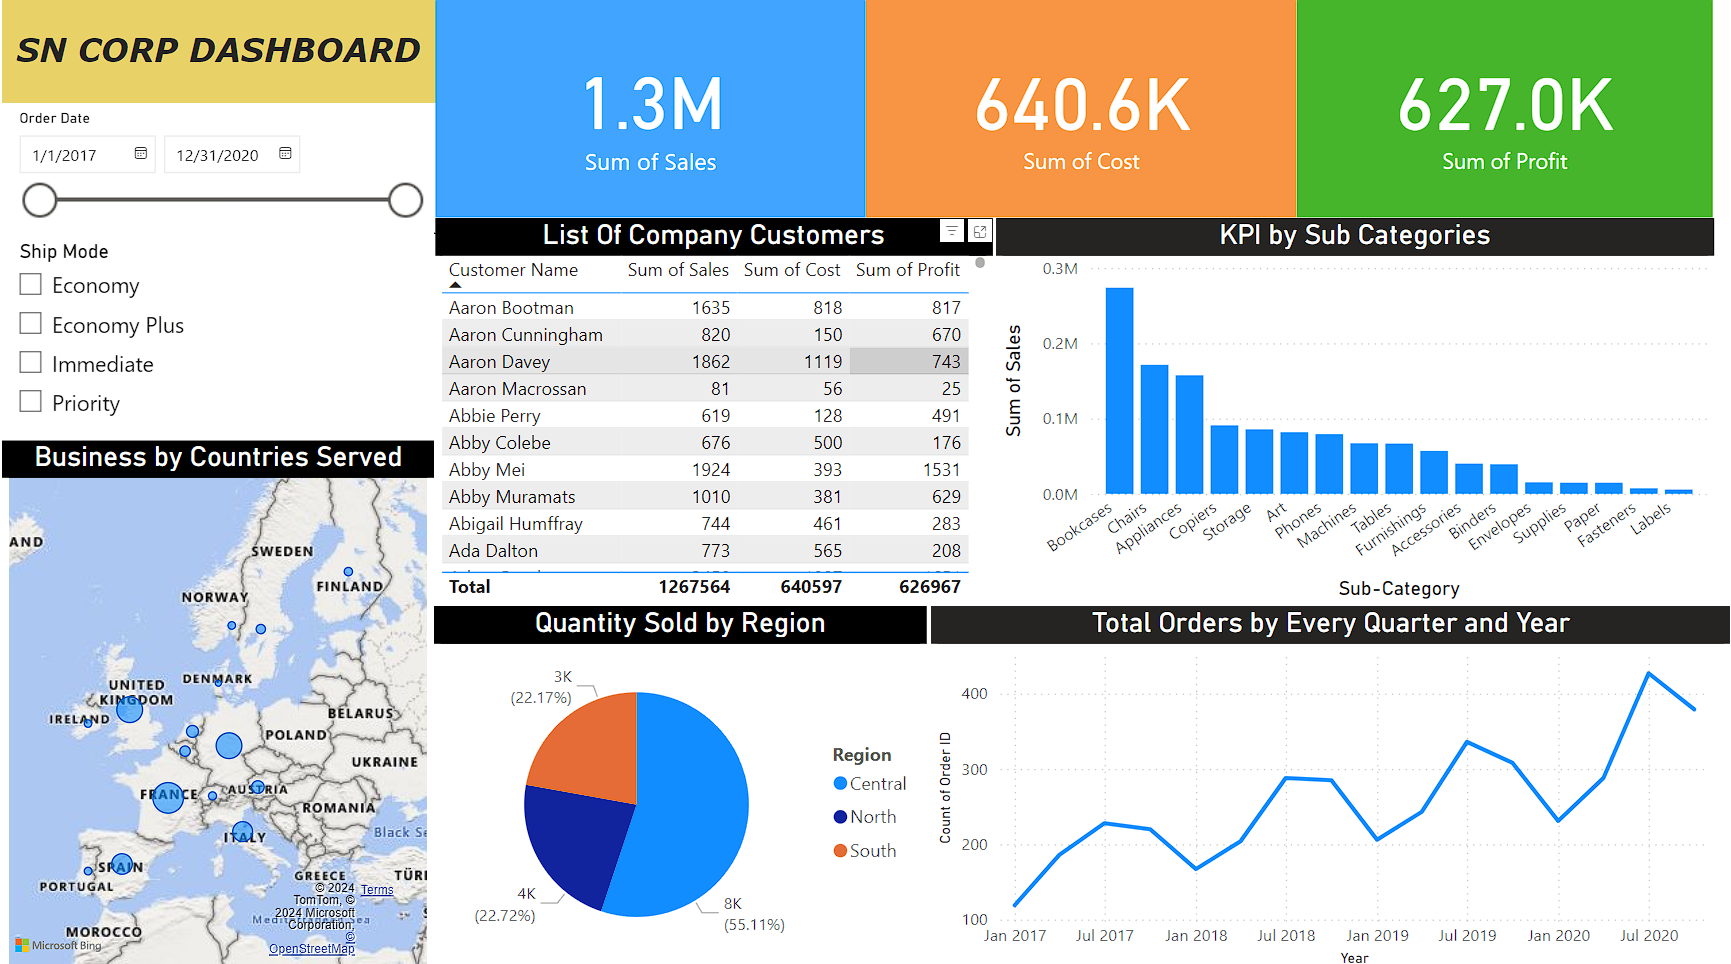

This screenshot's page, from the dashboard's own definition file:
{"tool":"powerbi","page":{"name":"Part 1","canvas":[1280,720],"ordinal":0},"visuals":[{"type":"card","fields":{"Values":["List of Orders.Sales"]},"box":[320.6,0,319.4,161.5],"z":0},{"type":"card","fields":{"Values":["List of Orders.Cost"]},"box":[640,0,319.4,161.5],"z":1000},{"type":"card","fields":{"Values":["List of Orders.Profit"]},"box":[959.4,0,307.8,161.5],"z":2000},{"type":"tableEx","title":"List Of Company Customers","fields":{"Values":["List of Orders.Customer Name","List of Orders.Sales","List of Orders.Cost","List of Orders.Profit"]},"box":[320.3,161.4,414.1,287.3],"z":3000},{"type":"clusteredColumnChart","title":"KPI by Sub Categories","fields":{"Y":["List of Orders.Sales"],"Category":["List of Orders.Sub-Category"]},"box":[736.1,161.4,531.5,287.3],"z":4000},{"type":"lineChart","title":"Total Orders by Every Quarter and Year","fields":{"Y":["List of Orders.Order ID"],"Category":["List of Orders.Order Date.Variation.Date Hierarchy.Year","List of Orders.Order Date.Variation.Date Hierarchy.Quarter"]},"box":[687.9,448.7,592.4,271.3],"z":5000},{"type":"pieChart","title":"Quantity Sold by Region","fields":{"Y":["List of Orders.Quantity"],"Category":["List of Orders.Region"]},"box":[320.3,448.7,365.1,271.3],"z":6000},{"type":"map","title":"Business by Countries Served","fields":{"Category":["List of Orders.Country"],"Size":["List of Orders.Sales"]},"box":[0,326.2,320.3,393.8],"z":7000},{"type":"slicer","fields":{"Values":["List of Orders.Ship Mode"]},"box":[0,173.1,320.6,153.3],"z":8000},{"type":"textbox","box":[0,0,320.6,76.7],"z":9000},{"type":"slicer","fields":{"Values":["List of Orders.Order Date"]},"box":[0,76.7,320.6,96.4],"z":10000}]}

Visuals, with their boxes in screenshot pixels (x1, y1, x2, y2), scaled from the page's 1280x720 canvas onto the 1731x964 screenshot:
card - List of Orders.Sales: <bbox>434, 0, 866, 216</bbox>
card - List of Orders.Cost: <bbox>866, 0, 1297, 216</bbox>
card - List of Orders.Profit: <bbox>1297, 0, 1714, 216</bbox>
"List Of Company Customers" tableEx: <bbox>433, 216, 993, 601</bbox>
"KPI by Sub Categories" clusteredColumnChart: <bbox>995, 216, 1714, 601</bbox>
"Total Orders by Every Quarter and Year" lineChart: <bbox>930, 601, 1730, 963</bbox>
"Quantity Sold by Region" pieChart: <bbox>433, 601, 927, 963</bbox>
"Business by Countries Served" map: <bbox>0, 437, 433, 963</bbox>
slicer - List of Orders.Ship Mode: <bbox>0, 232, 434, 437</bbox>
textbox: <bbox>0, 0, 434, 103</bbox>
slicer - List of Orders.Order Date: <bbox>0, 103, 434, 232</bbox>
